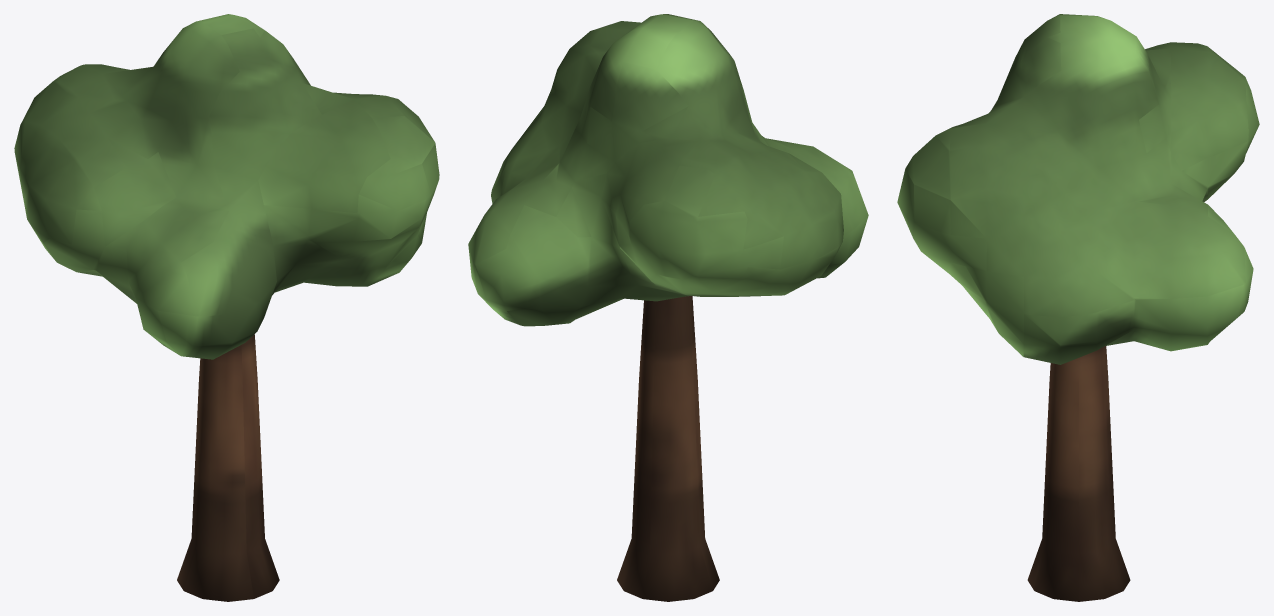
The model's file is TreeRound.fbx.
3 views of the same model, side by side, from view 1: azimuth 30°, elevation 25°; view 2: azimuth 150°, elevation 25°; view 3: azimuth 270°, elevation 25° (orthographic).
Parts seen in each view (by area): view 1: TreeRound_Body_LOD0; view 2: TreeRound_Body_LOD0; view 3: TreeRound_Body_LOD0.
Boxes of the visible parts, <box> form: TreeRound_Body_LOD0: <box>14,14,439,601</box>; TreeRound_Body_LOD0: <box>468,14,868,601</box>; TreeRound_Body_LOD0: <box>897,14,1259,601</box>.
Size of what is drawn, in the model's own units: 2.24 by 3.34 by 1.97.
